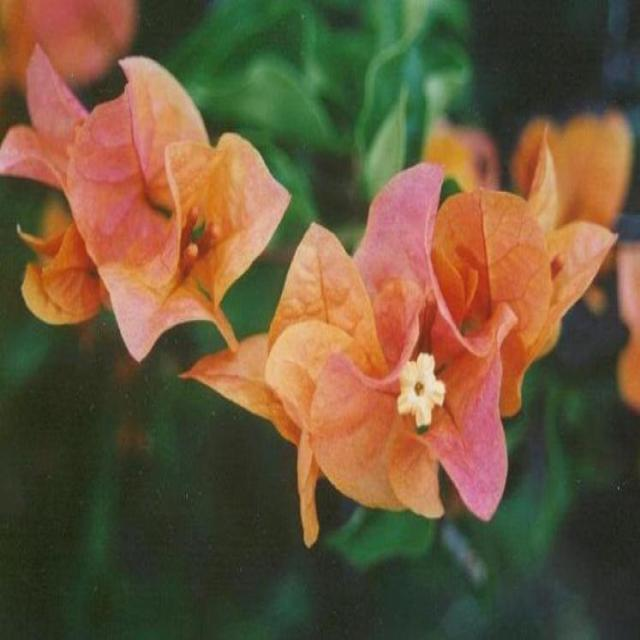bougainvillea: (0, 0, 640, 560)
